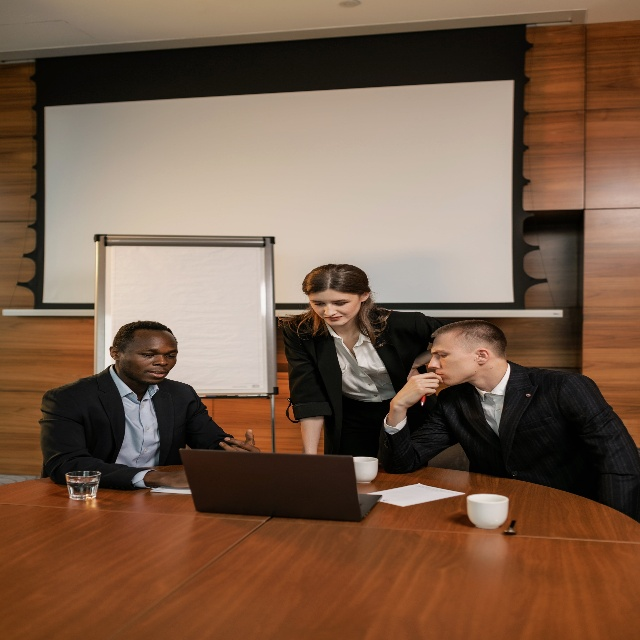Sin_guantes: (390, 372, 441, 408), (219, 426, 259, 452), (152, 468, 190, 488)
